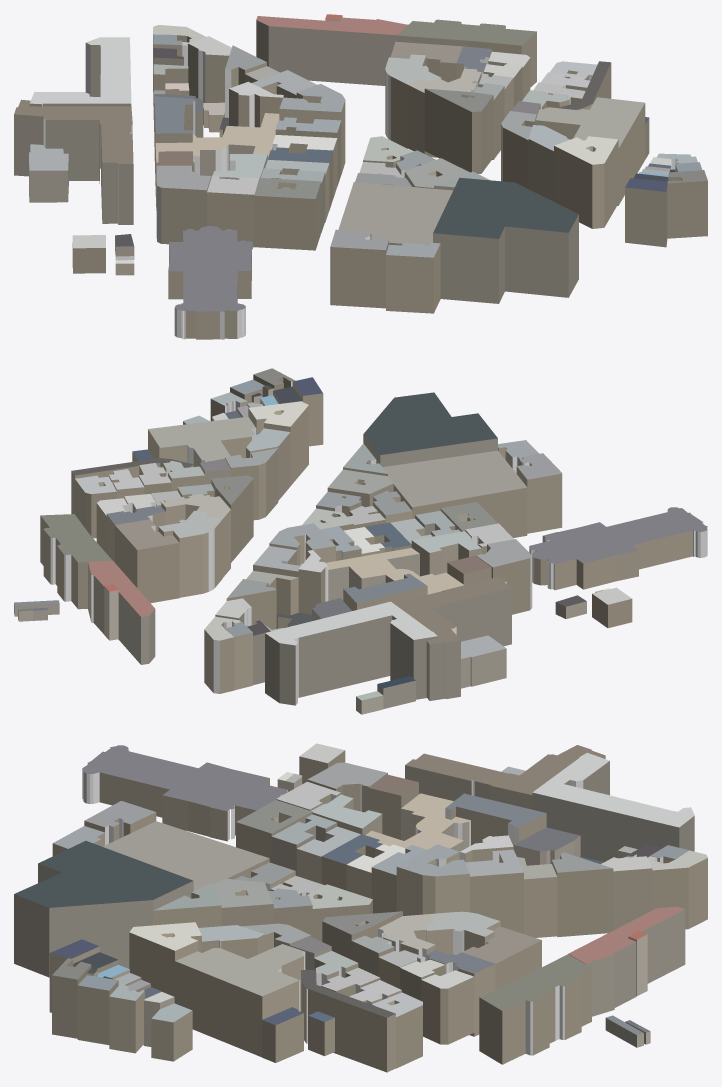
3 views of the same model, one above another, from view 1: azimuth 30°, elevation 25°; view 2: azimuth 150°, elevation 25°; view 3: azimuth 270°, elevation 25° (orthographic). The views are drawn at different scales.
Visible parts, largest first — view 1: tuile; view 2: tuile; view 3: tuile.
Boxes of the visible parts, bbox=[...] form: tuile: bbox=[14, 14, 707, 339]; tuile: bbox=[14, 368, 707, 714]; tuile: bbox=[14, 743, 707, 1072].
Size of the model in its own units: 268 by 33.6 by 264.
